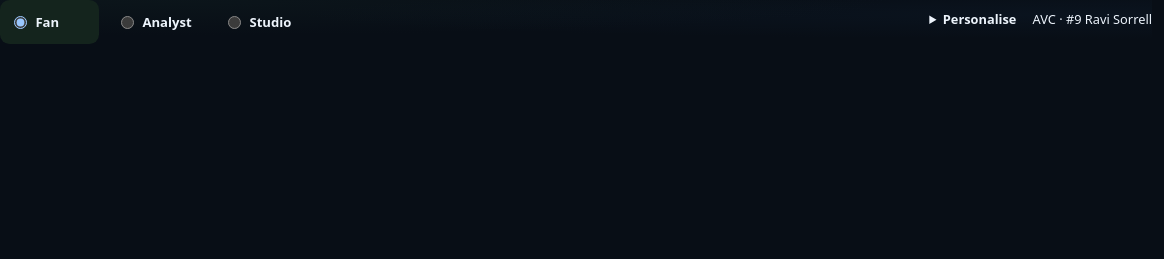
Scenario: ProfileBar language switch › is switched off in Preview, says why, and keeps the saved choice visible
Step 1. Click the heading "Personalise AVC · #9 Ravi Sorrell" → [1047, 19], box [943, 10, 1152, 28]
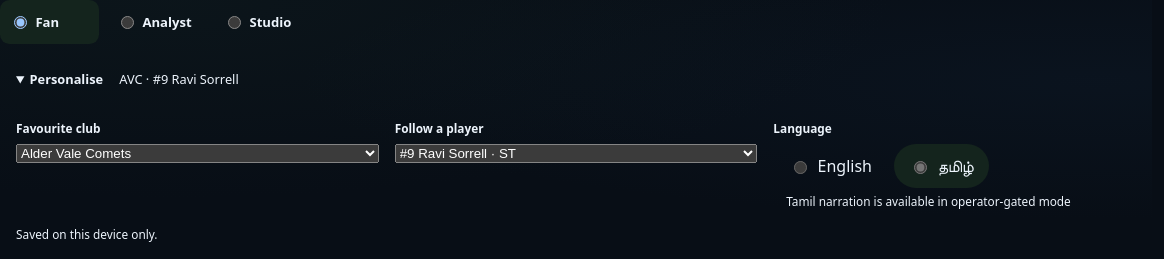
Expected: the radio button labelled "தமிழ்" is checked, [914, 161, 927, 174]
Expected: the radio button labelled "தமிழ்" is disabled, [914, 161, 927, 174]
Expected: the radio button labelled "English" is disabled, [794, 161, 806, 174]
